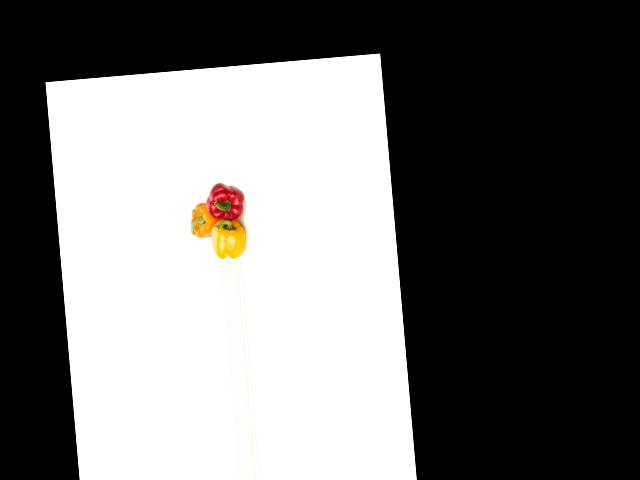bell_pepper: (209, 219, 251, 260)
